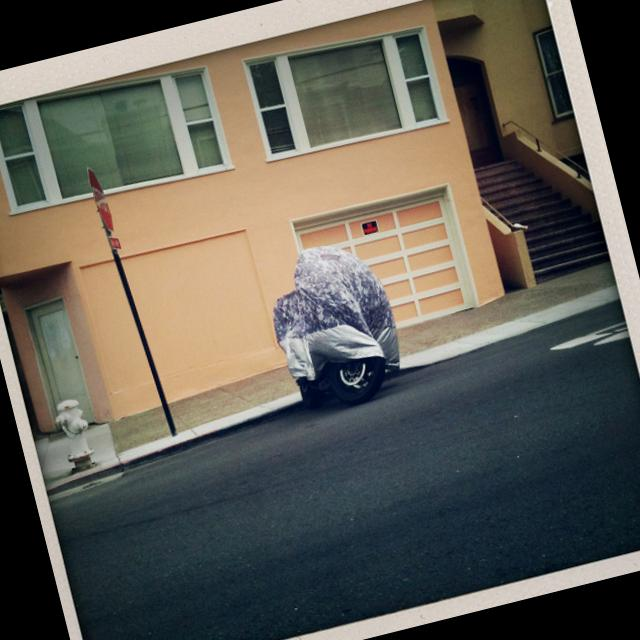Vehicle: (262, 242, 410, 396), (289, 348, 394, 416)
